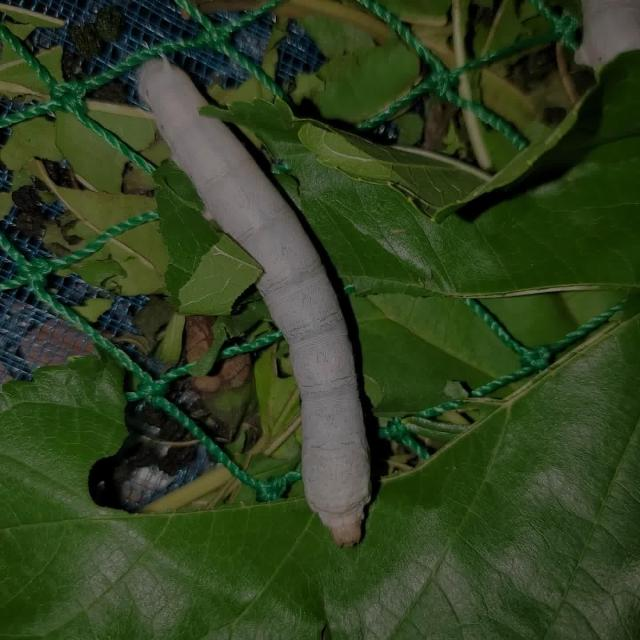Healthy: (98, 34, 448, 568)
